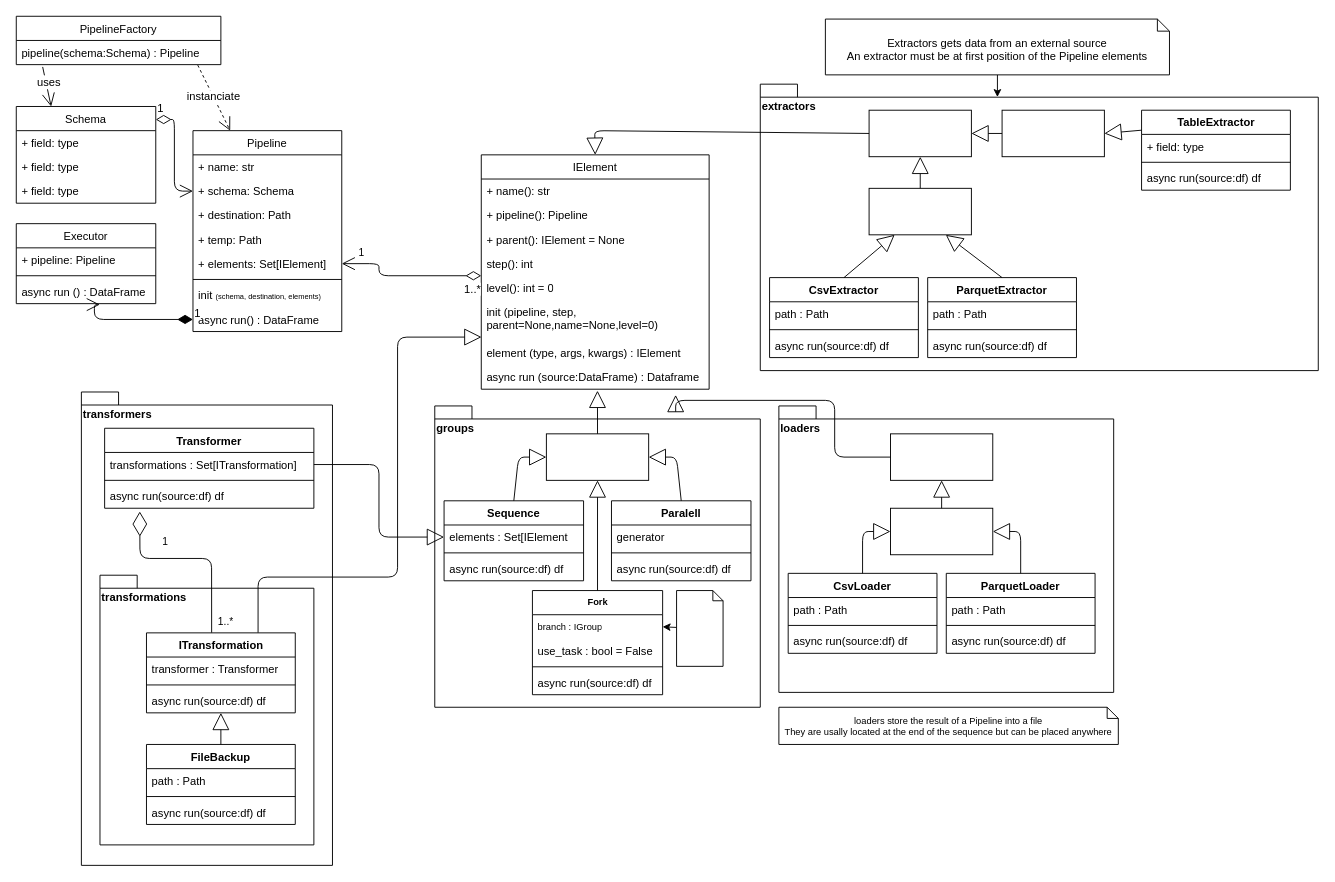
Some shapes in this 1335 by 882 pixel diagram are drawn without their labels. The shapes that lost their labels are listed below. From the top down, each one's centre as x and y in pixels, then its label:
At (x=919, y=133): "«interface» IExtractor".
At (x=1052, y=133): "«interface» IInstanceExtractor".
At (x=919, y=211): "«interface» IFileExtractor".
At (x=597, y=456): "«interface» IGroup".
At (x=941, y=456): "«interface» ILoader".
At (x=941, y=531): "«interface» IFileLoader".
At (x=699, y=628): "running a Fork execute the branch but returns the source dataframe".
